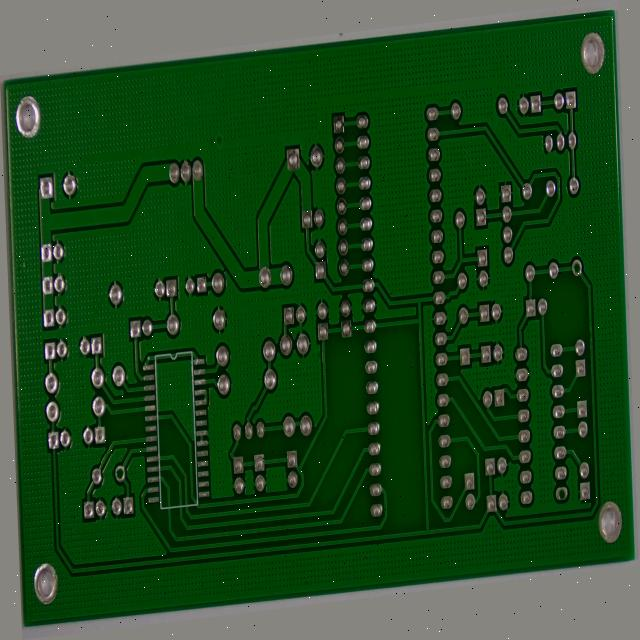missing_hole: (581, 282, 594, 309), (101, 454, 114, 477), (556, 539, 569, 561)
